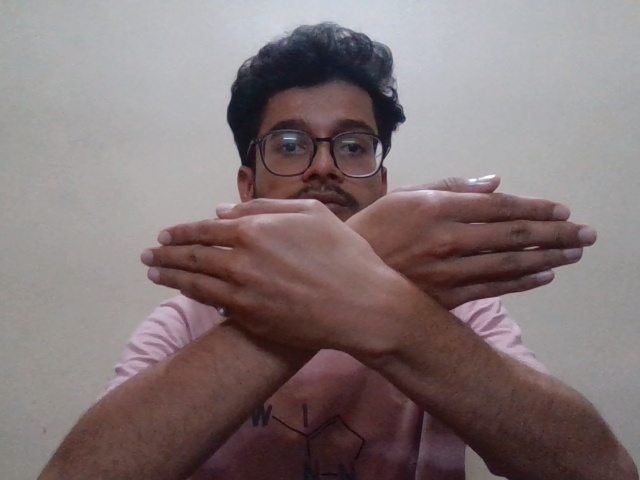feel: (111, 174, 599, 376)
